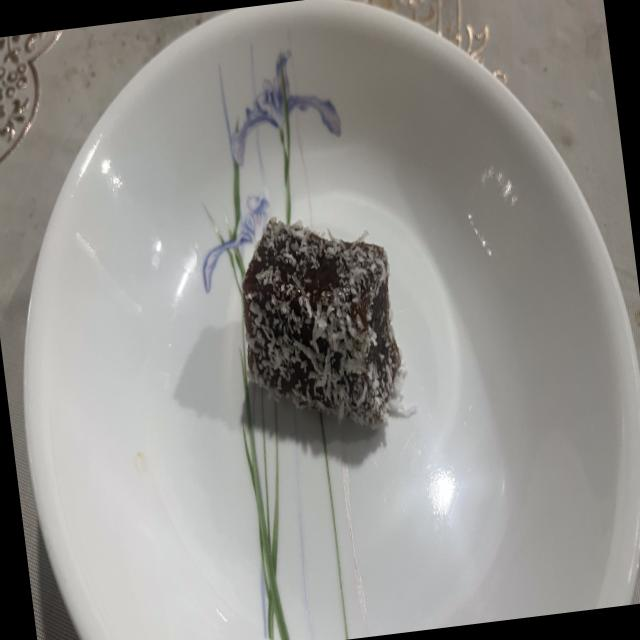kaswi: (242, 216, 401, 428)
